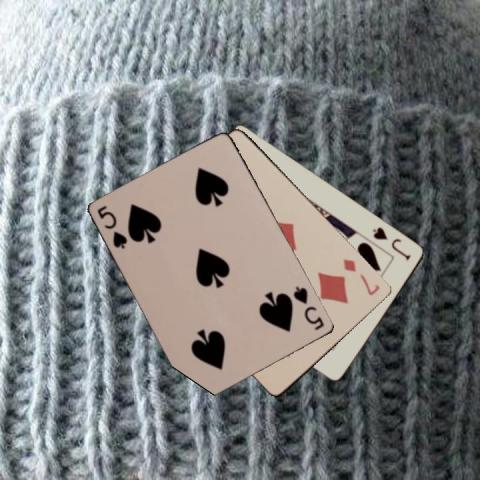5s: (291, 283, 326, 332), (95, 202, 129, 250)
7d: (341, 256, 381, 298)
Js: (370, 223, 413, 262)
